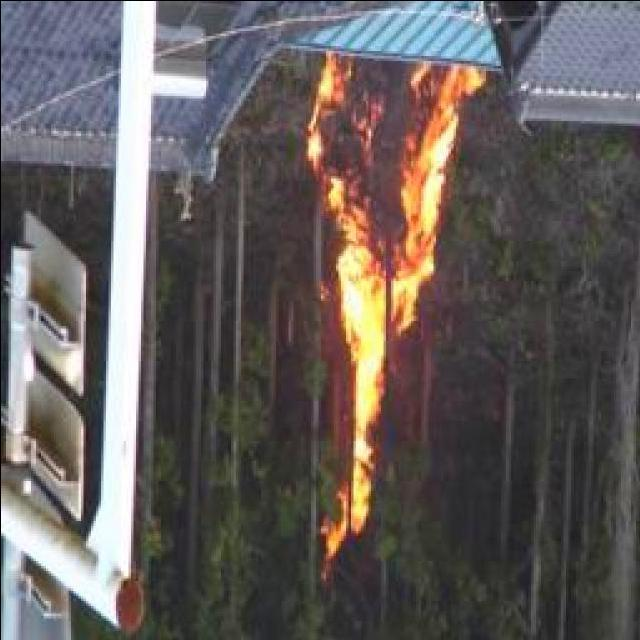Fire: (301, 51, 474, 554)
